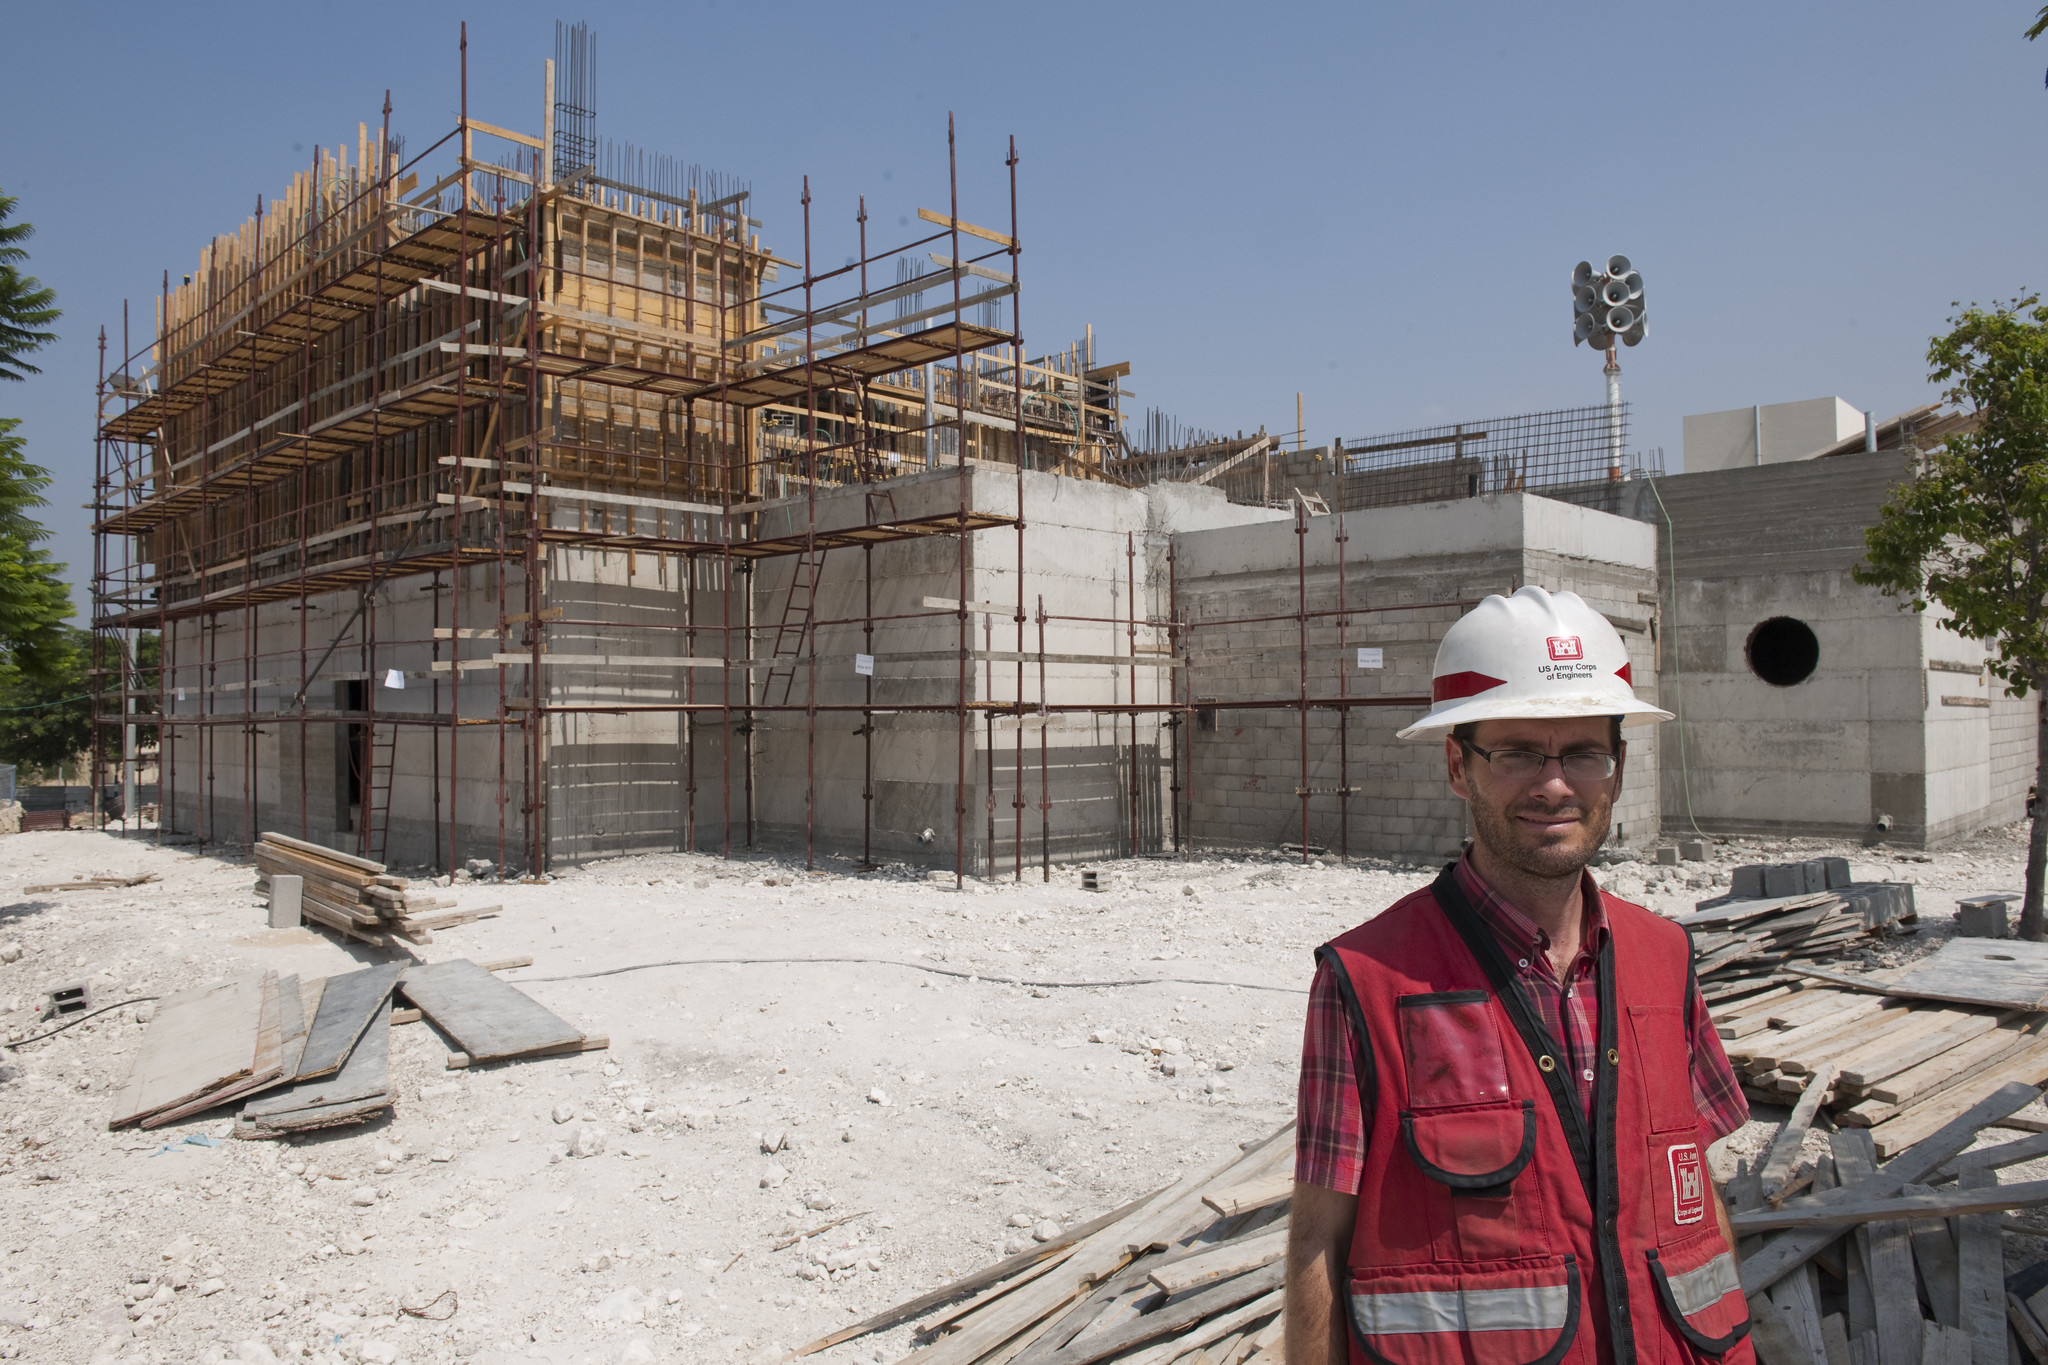Helmet: (1380, 571, 1705, 926)
Reflective vest: (1287, 877, 1777, 1365)
